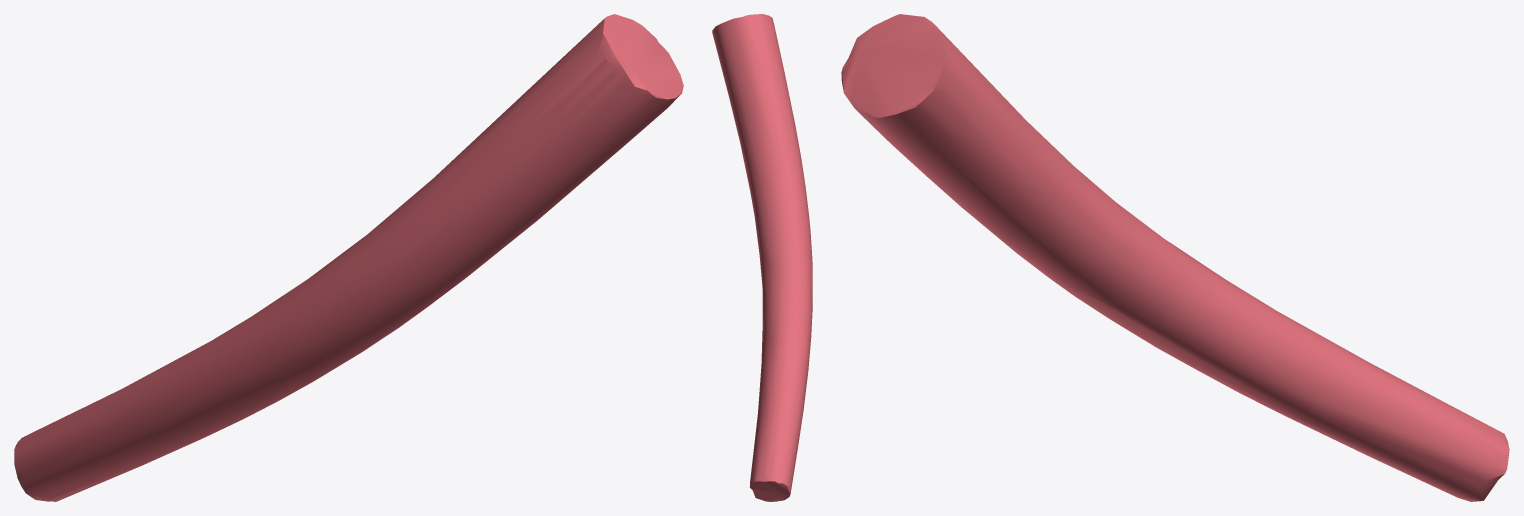
Rendered from fma68738_fj3014.glb.
The picture shows the model from 3 angles, left to right: view 1: azimuth 30°, elevation 25°; view 2: azimuth 150°, elevation 25°; view 3: azimuth 270°, elevation 25°; orthographic projection. The views are drawn at different scales.
Parts seen in each view (by area): view 1: FMA68738_FJ3014; view 2: FMA68738_FJ3014; view 3: FMA68738_FJ3014.
Boxes of the visible parts, box(x1,y1,x2,y2) form: FMA68738_FJ3014: box(14, 14, 683, 501); FMA68738_FJ3014: box(712, 14, 812, 501); FMA68738_FJ3014: box(841, 14, 1509, 501).
Bounding box in the file's own units: 0.0118 × 0.0171 × 0.0163.
